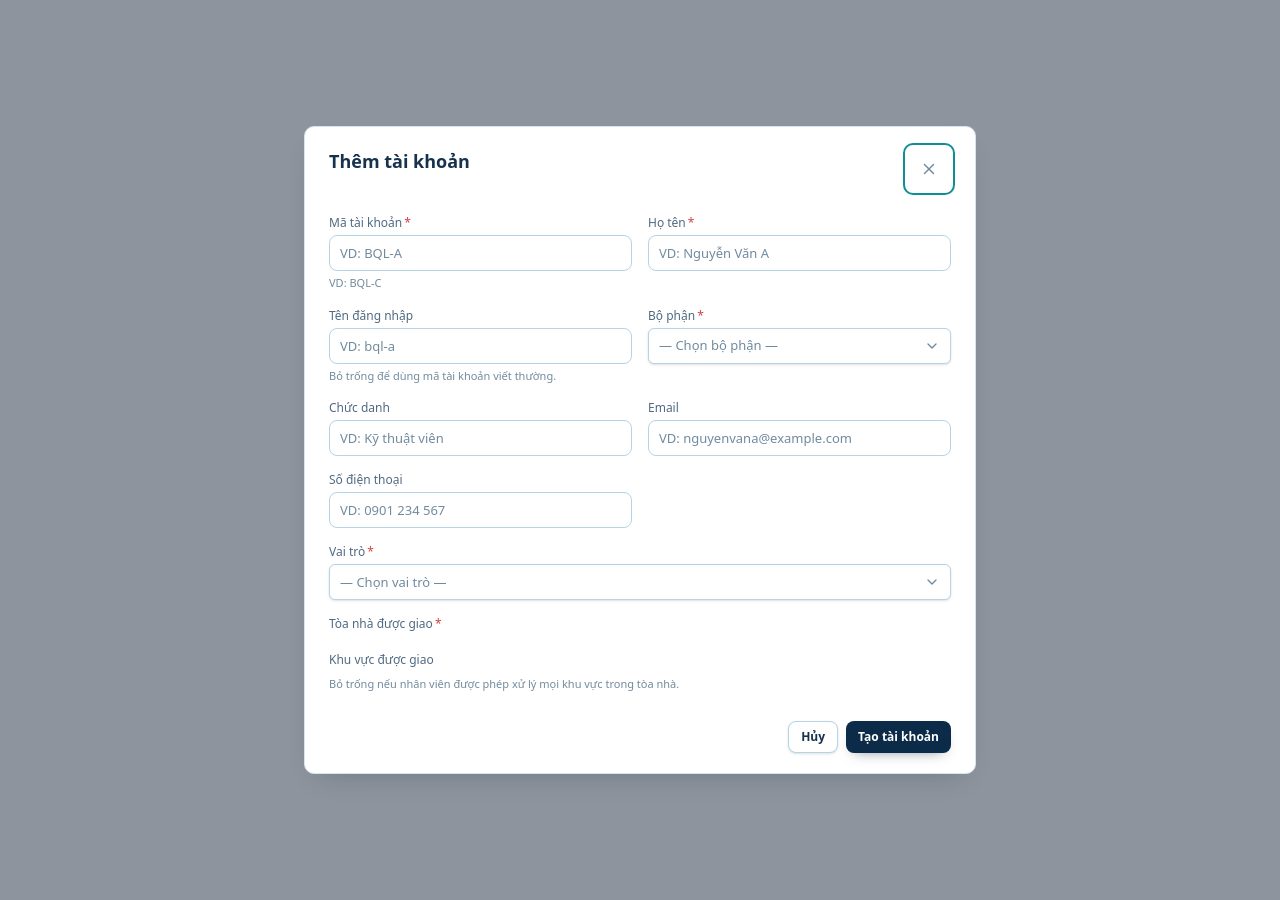
UserDialog duplicate account errors › should keep the login name when creating and show its error under that field
Type "T4C-B" into the field labelled "Tên đăng nhập" at (480, 346), box [329, 328, 632, 364]
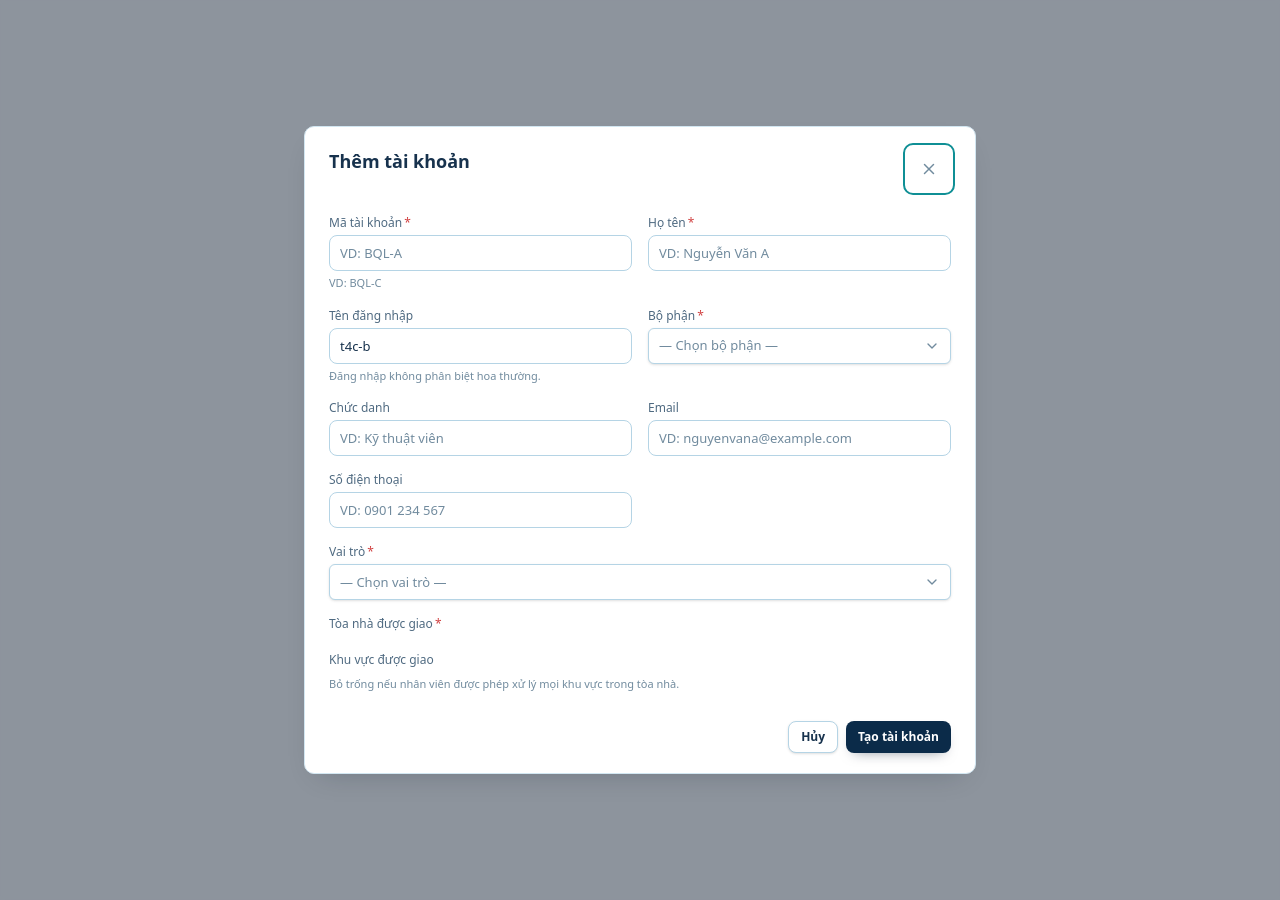
Click the button "Tạo tài khoản" at (899, 737), box [846, 721, 951, 753]
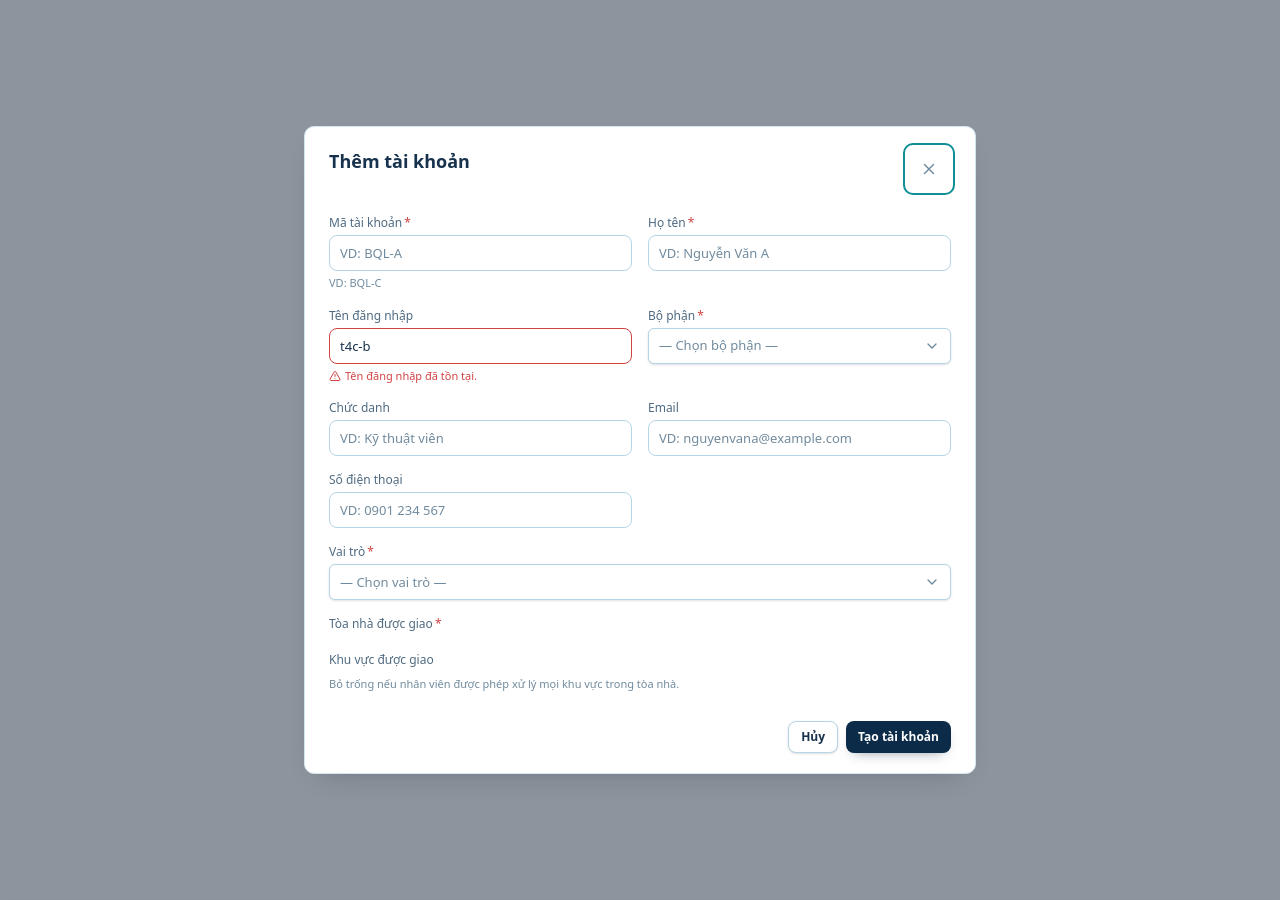
expect the message reads "Tên đăng nhập đã tồn tại.": met, box [345, 368, 477, 383]
